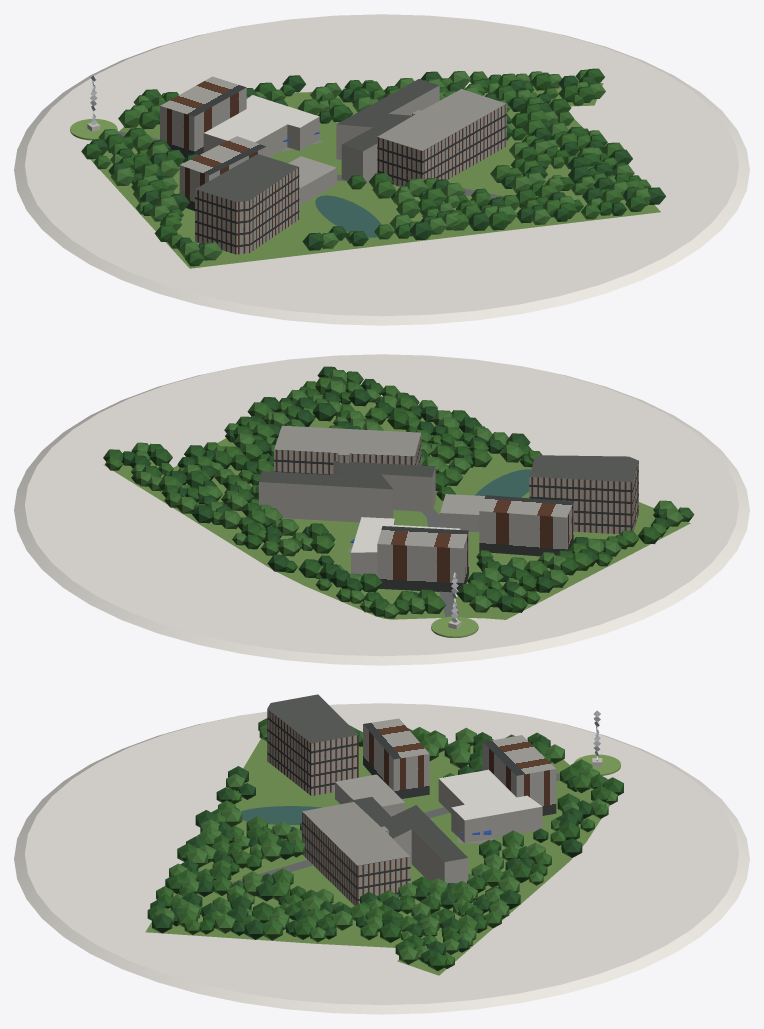
Rendered from centro-administrativo-do-cambeba.glb.
3 views of the same model, one above another, from view 1: azimuth 30°, elevation 25°; view 2: azimuth 150°, elevation 25°; view 3: azimuth 270°, elevation 25° (orthographic).
Visible parts, largest first — view 1: cambeba; view 2: cambeba; view 3: cambeba.
Boxes of the visible parts, x1=… form: cambeba: x1=14, y1=14, x2=749, y2=325; cambeba: x1=14, y1=354, x2=749, y2=665; cambeba: x1=14, y1=694, x2=749, y2=1014.
Size of the model in its own units: 68 by 6.15 by 68.
Materials: 19 (1 with a texture image).
